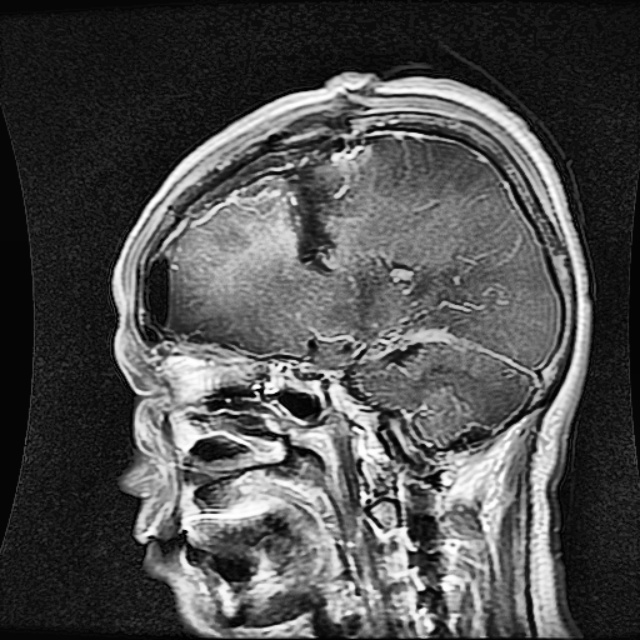Meningioma: (224, 153, 349, 272)
